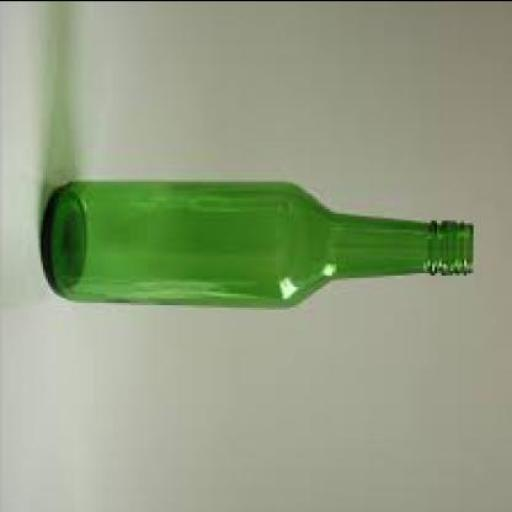glass: (43, 183, 476, 311)
